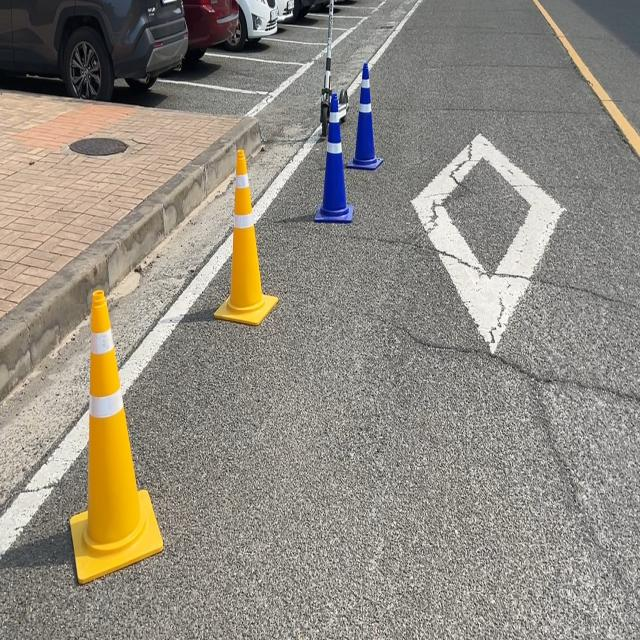b_rub: (314, 91, 354, 222), (347, 60, 383, 169)
y_rub: (69, 289, 163, 584), (214, 148, 278, 325)
